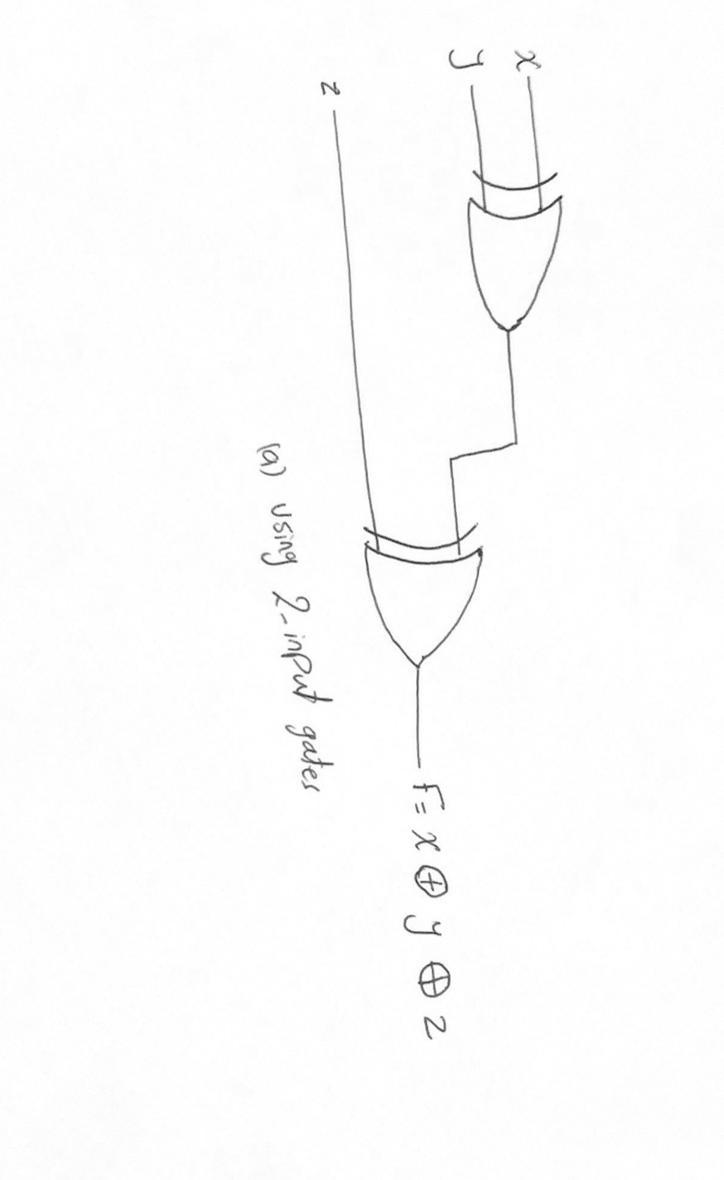XOR: (335, 490, 510, 681), (445, 145, 604, 353)
